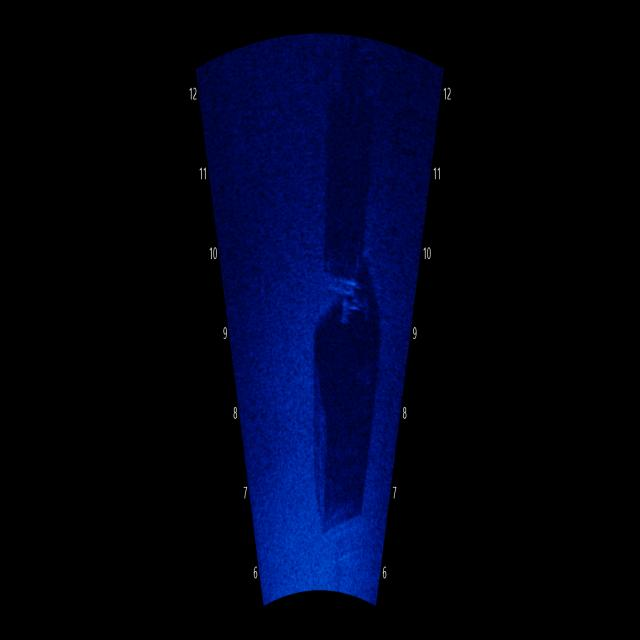square: (309, 277, 376, 550), (318, 53, 380, 290)
